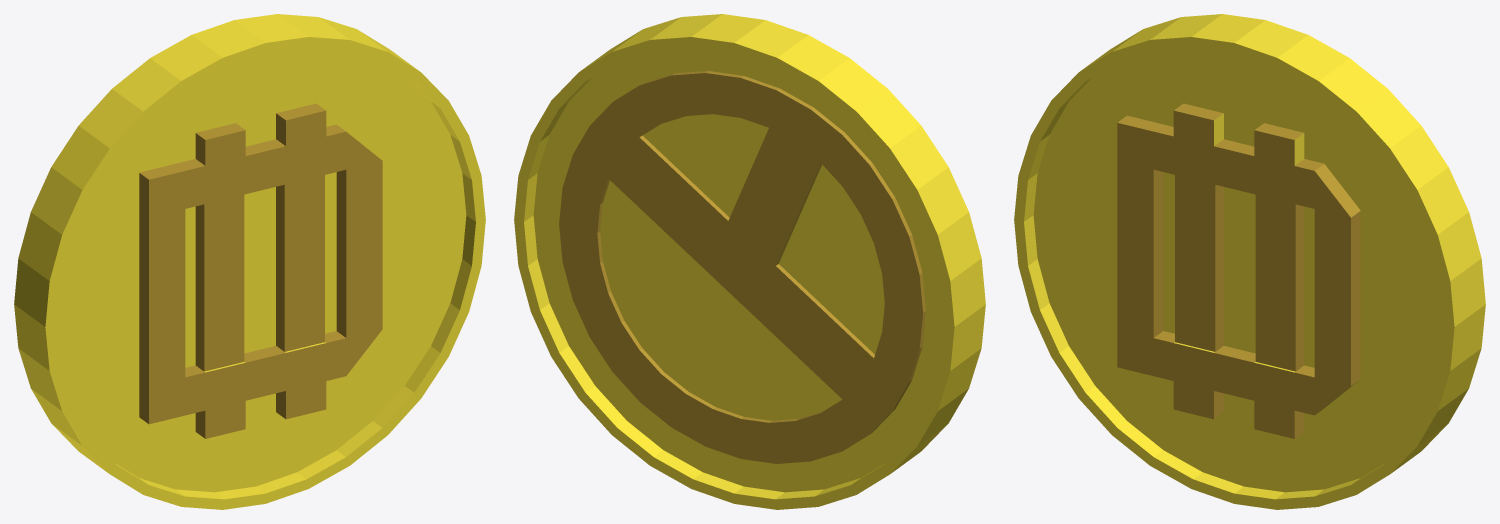
Rendered from coin.glb.
3 views of the same model, side by side, from view 1: azimuth 30°, elevation 25°; view 2: azimuth 150°, elevation 25°; view 3: azimuth 330°, elevation 25° (orthographic).
Visible parts, largest first — view 1: Cylinder; view 2: Cylinder; view 3: Cylinder.
Part boxes in pixels (left/top/right/bottom): Cylinder: left=14, top=14, right=485, bottom=509; Cylinder: left=514, top=14, right=985, bottom=509; Cylinder: left=1014, top=14, right=1485, bottom=509.
Size of the model in its own units: 2 by 2 by 0.2476.
